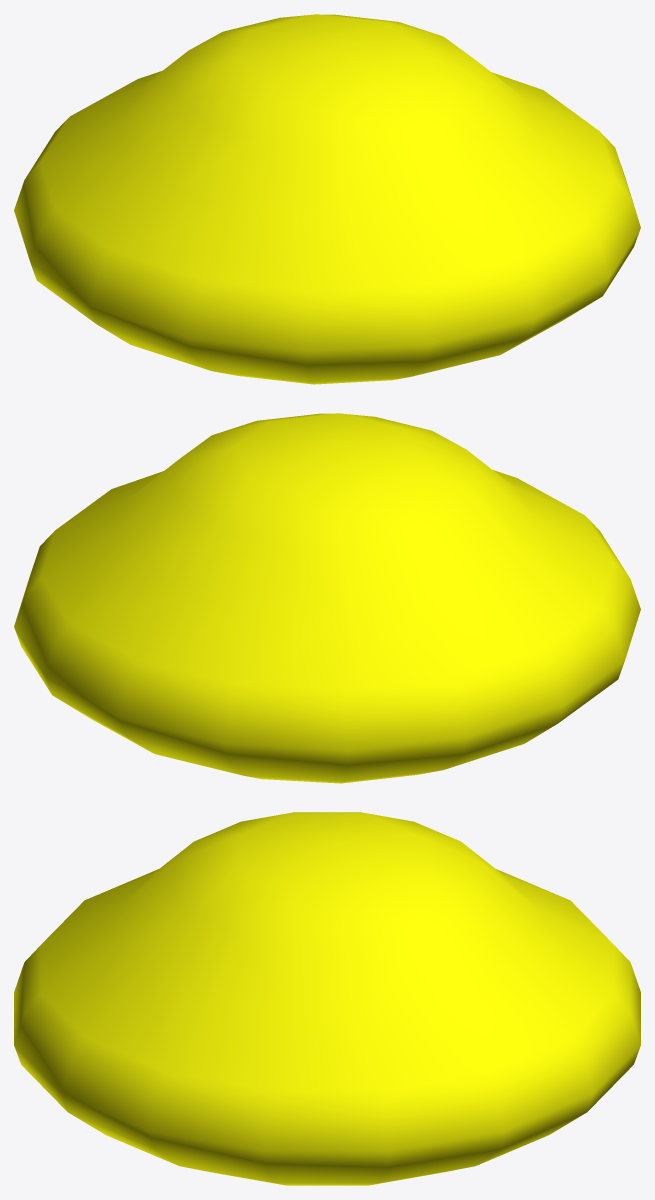
Rendered from kaykit-bush-3-c-color-1.glb.
3 views of the same model, one above another, from view 1: azimuth 30°, elevation 25°; view 2: azimuth 150°, elevation 25°; view 3: azimuth 270°, elevation 25° (orthographic).
Parts seen in each view (by area): view 1: Bush_3_C_Color1; view 2: Bush_3_C_Color1; view 3: Bush_3_C_Color1.
Part boxes in pixels (left/top/right/bottom): Bush_3_C_Color1: left=14, top=14, right=640, bottom=384; Bush_3_C_Color1: left=14, top=413, right=640, bottom=783; Bush_3_C_Color1: left=14, top=812, right=640, bottom=1185.
Bounding box in the file's own units: 2.49 × 1.15 × 2.49.
